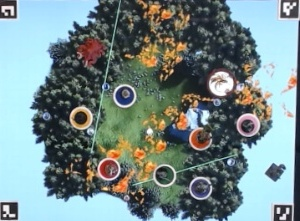blue: (111, 82, 138, 107)
green: (154, 160, 177, 188)
orange: (188, 128, 213, 151)
pink: (237, 111, 262, 138)
red: (95, 155, 121, 180)
violet: (189, 173, 214, 199)
yellow: (68, 103, 94, 129)
